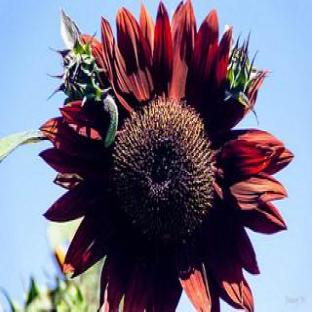sunflower: (0, 0, 294, 312)
